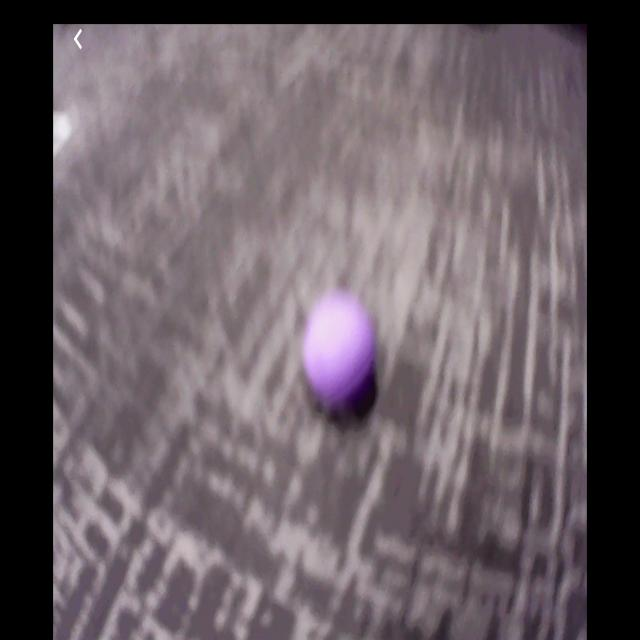ball: (304, 294, 379, 409)
